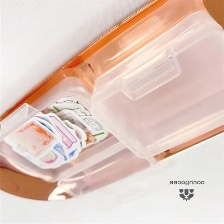plastic_box: (0, 70, 169, 223), (83, 5, 224, 164)
